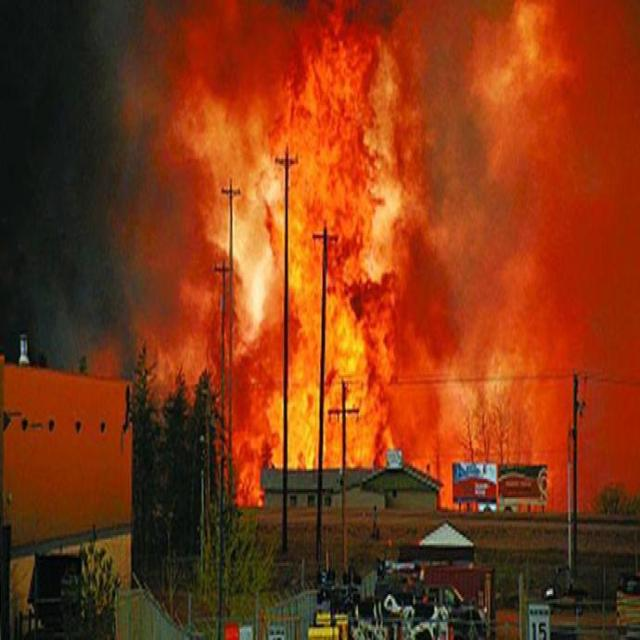fire: (190, 24, 422, 454)
